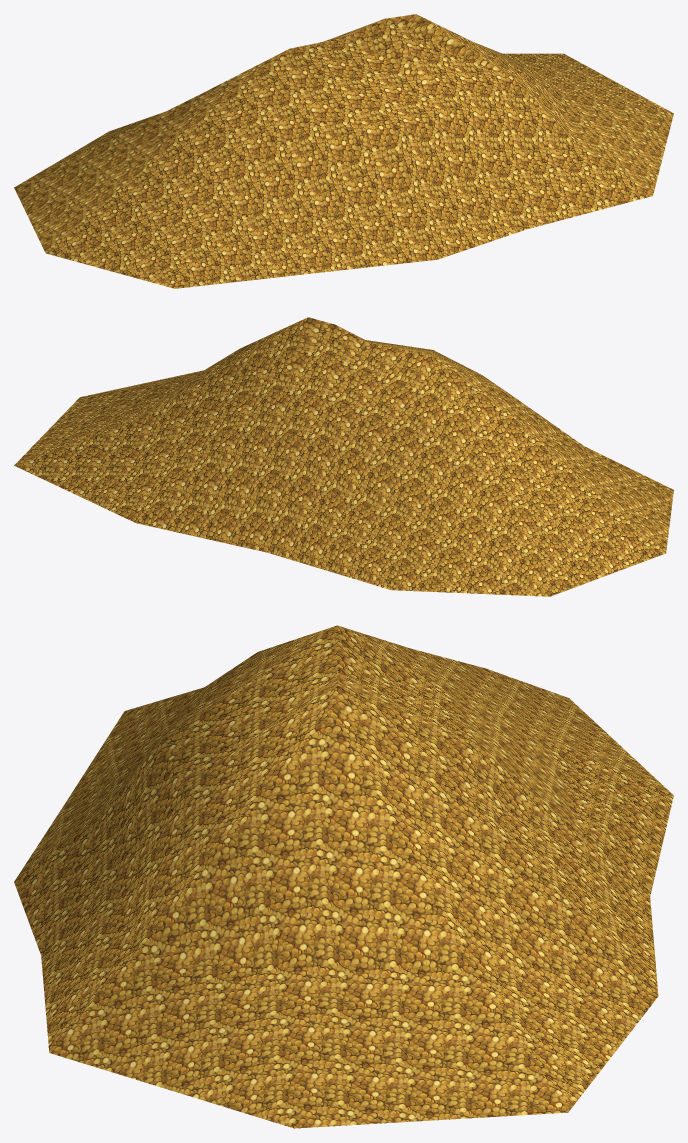
File: Treasure_Gold_02.FBX
3 views of the same model, one above another, from view 1: azimuth 30°, elevation 25°; view 2: azimuth 150°, elevation 25°; view 3: azimuth 270°, elevation 25° (orthographic). The views are drawn at different scales.
Parts seen in each view (by area): view 1: Treasure_Gold_02; view 2: Treasure_Gold_02; view 3: Treasure_Gold_02.
Boxes of the visible parts, x1,y1,x2,y2 form: Treasure_Gold_02: (14, 14, 673, 288); Treasure_Gold_02: (14, 317, 673, 596); Treasure_Gold_02: (14, 625, 673, 1128).
Bounding box in the file's own units: 12.38 × 2.92 × 7.45.
